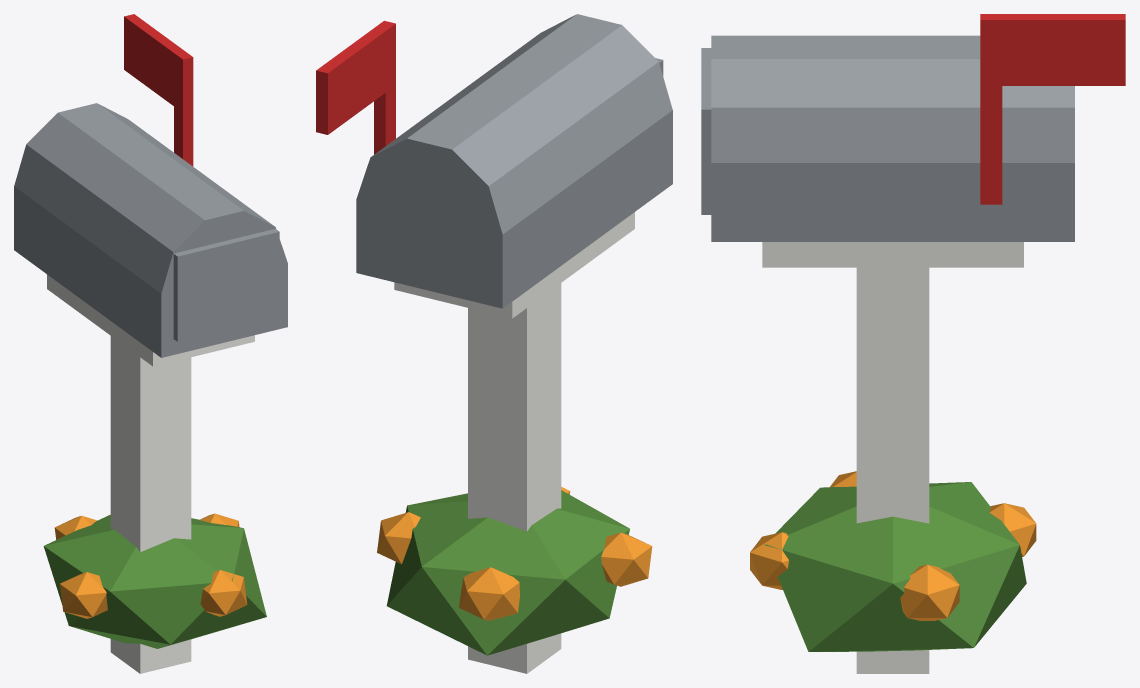
File: mailbox.glb
3 renders of one model, left to right at view 1: azimuth 30°, elevation 25°; view 2: azimuth 150°, elevation 25°; view 3: azimuth 270°, elevation 25°, orthographic. The views are drawn at different scales.
Parts seen in each view (by area): view 1: Mailbox_Box, Mailbox_Post, Mailbox_Leaves, Mailbox_Flag, Mailbox_Flowers; view 2: Mailbox_Box, Mailbox_Post, Mailbox_Leaves, Mailbox_Flag, Mailbox_Flowers; view 3: Mailbox_Box, Mailbox_Leaves, Mailbox_Post, Mailbox_Flag, Mailbox_Flowers.
Part boxes in pixels (<box>): Mailbox_Box: <box>14,103,287,357</box>; Mailbox_Post: <box>47,274,254,673</box>; Mailbox_Leaves: <box>43,514,266,648</box>; Mailbox_Flag: <box>124,14,193,166</box>; Mailbox_Flowers: <box>54,513,247,618</box>; Mailbox_Box: <box>356,14,672,308</box>; Mailbox_Post: <box>394,212,634,673</box>; Mailbox_Leaves: <box>386,490,629,655</box>; Mailbox_Flag: <box>316,20,395,154</box>; Mailbox_Flowers: <box>377,487,652,620</box>; Mailbox_Box: <box>701,35,1074,241</box>; Mailbox_Leaves: <box>764,482,1026,651</box>; Mailbox_Post: <box>762,242,1023,673</box>; Mailbox_Flag: <box>980,14,1125,204</box>; Mailbox_Flowers: <box>750,471,1036,620</box>.
Size of the model in its own units: 1.99 by 5.2 by 2.92.
